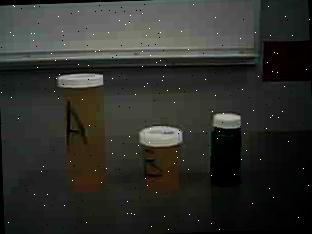Bottle A: (48, 66, 124, 198)
Bottle B: (137, 118, 191, 199)
Bottle C: (206, 109, 248, 200)
